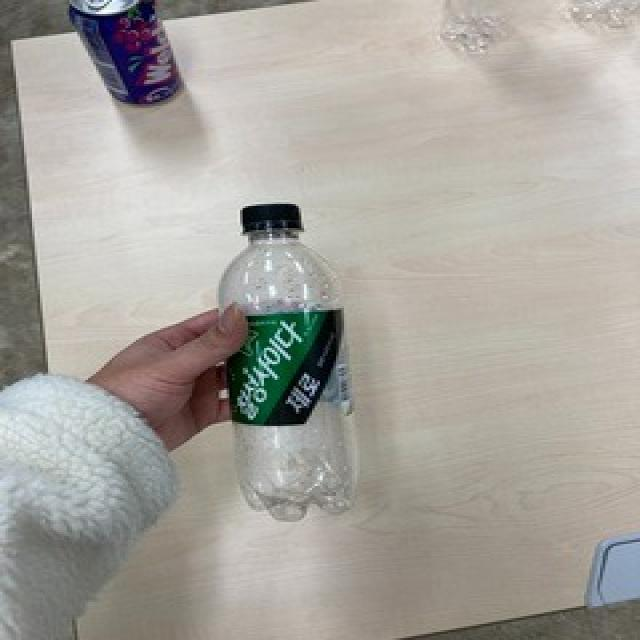good: (212, 195, 364, 527)
